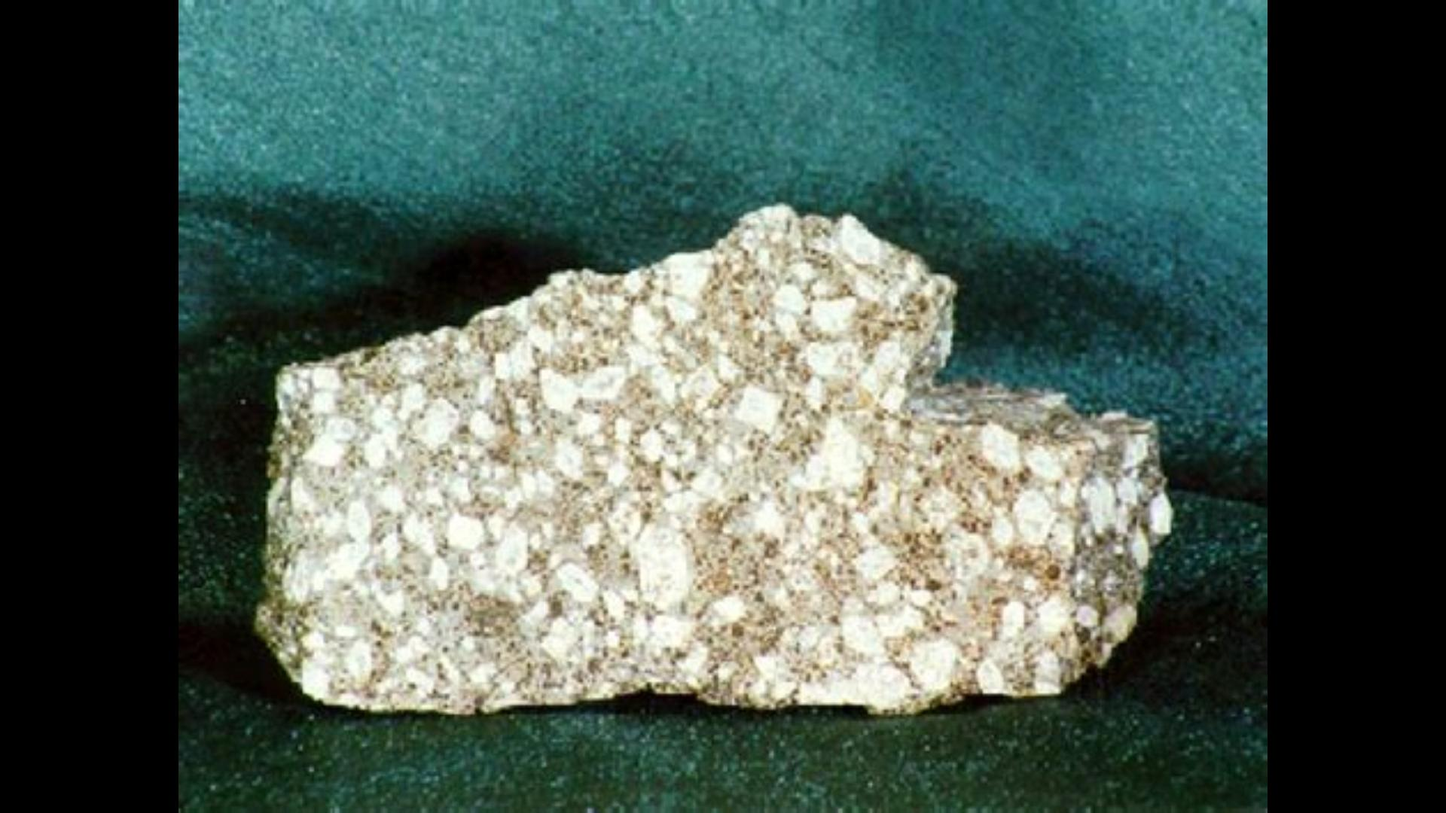rock: (257, 209, 1166, 712)
